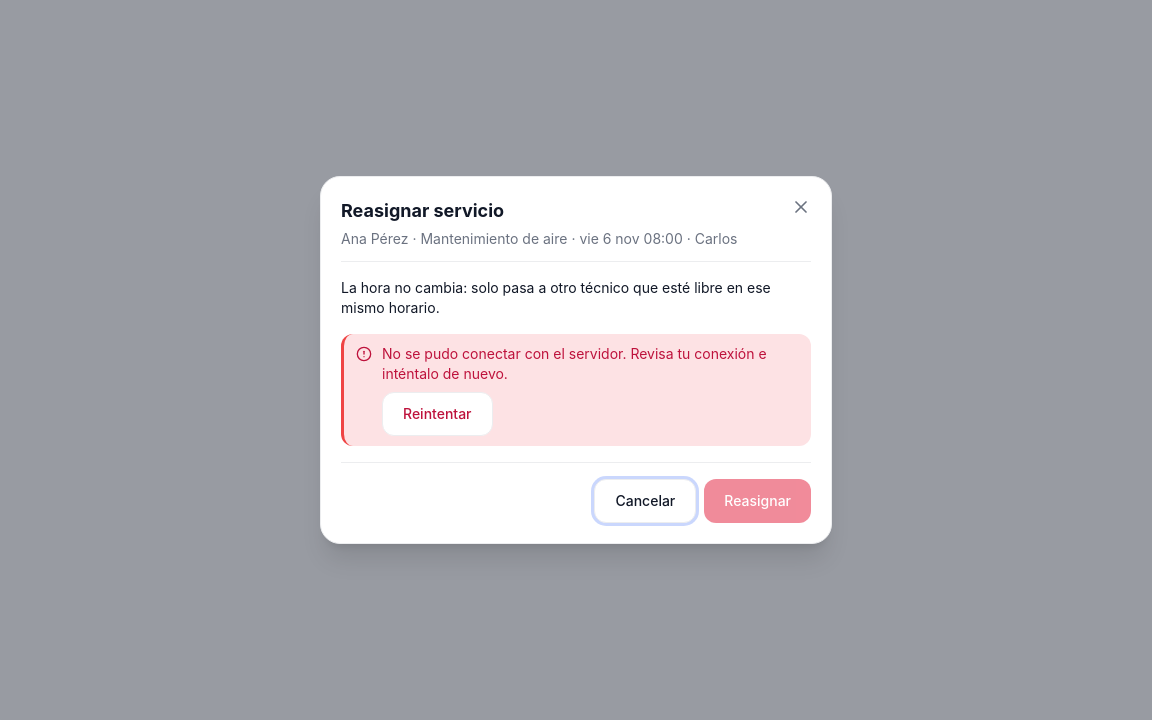
ReassignDialog › ofrece reintentar si falla la consulta de técnicos libres
expect the text "No se pudo conectar con el servidor" is shown: met, box x1=382 y1=345 x2=767 y2=382
expect the button "Reasignar" is disabled: met, box x1=704 y1=479 x2=811 y2=523
Click the button "Reintentar": x=437, y=414 x1=382 y1=392 x2=492 y2=436
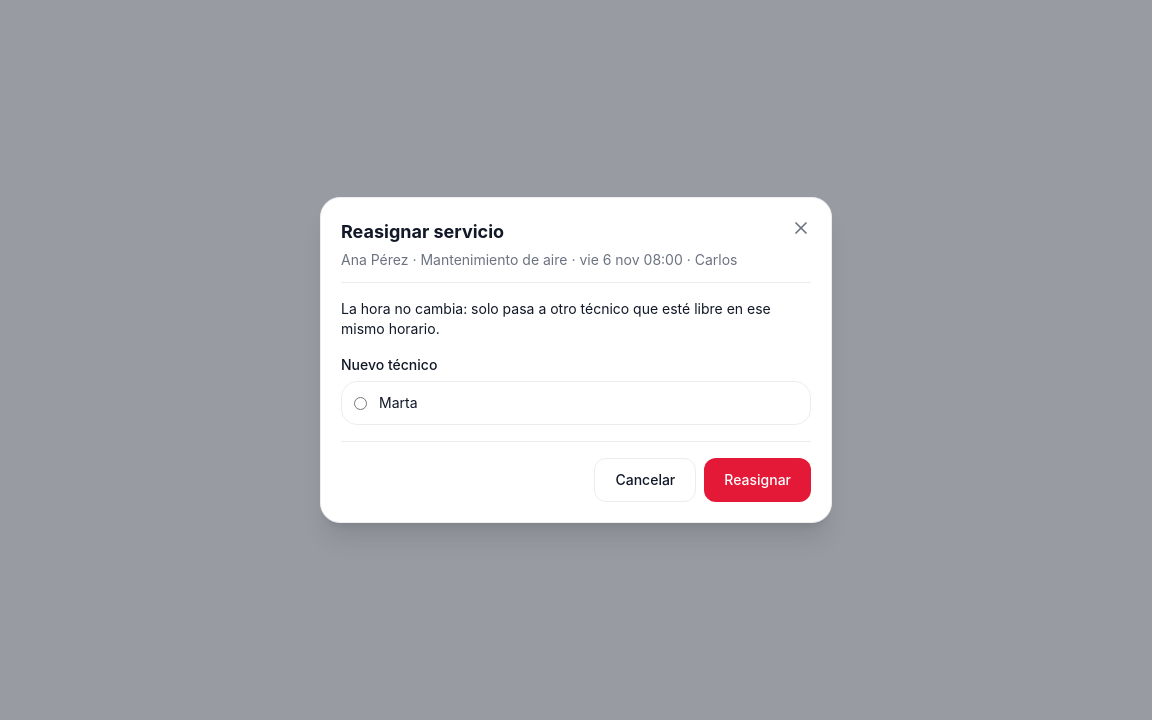
expect the radio button labelled "Marta" is shown: met, box x1=354 y1=396 x2=367 y2=410
